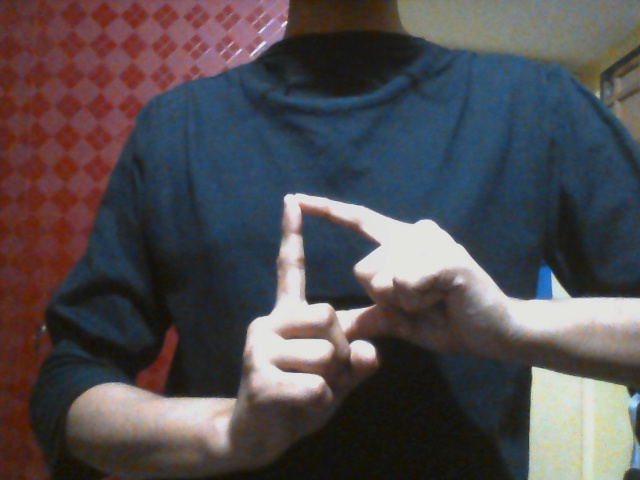D: (229, 191, 515, 468)
